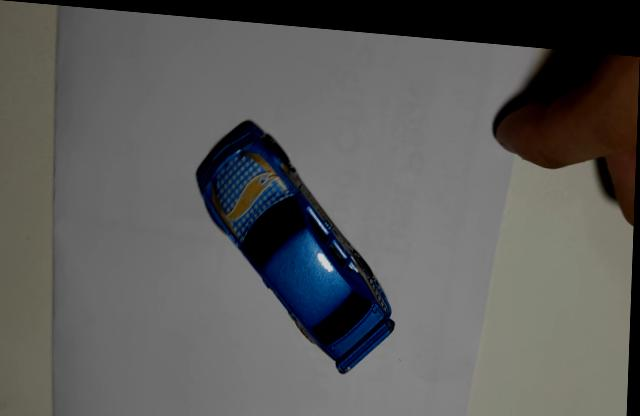04_MERZEDES: (195, 113, 399, 367)
